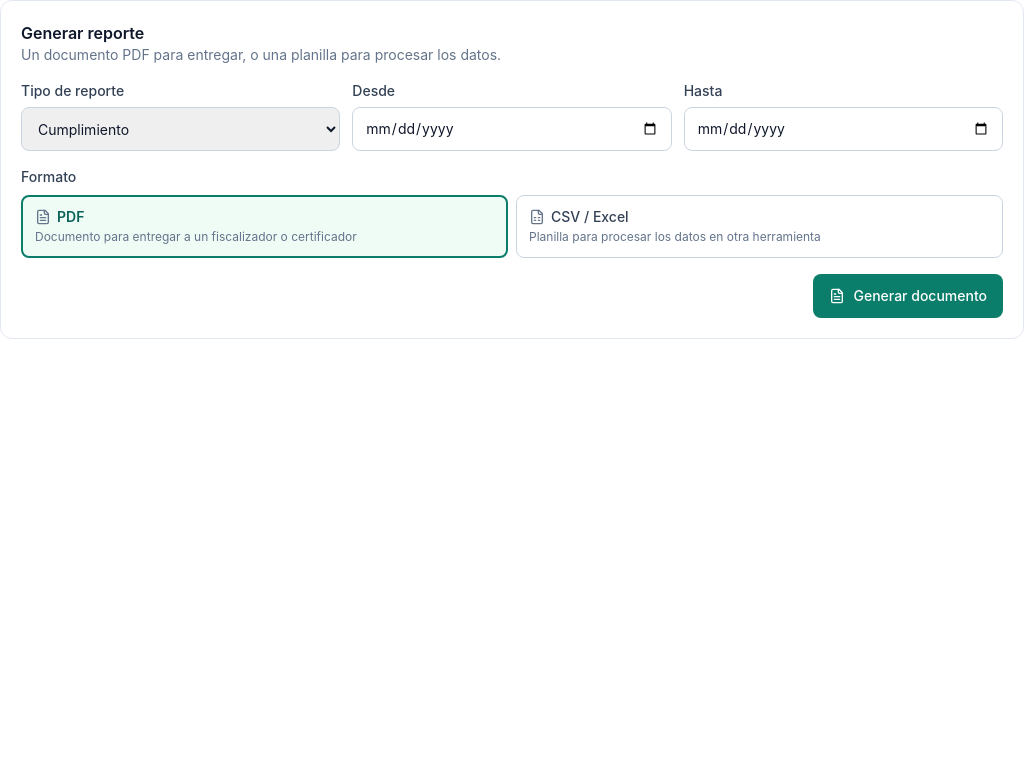
Scenario: el documento › se muestra antes de imprimir, para poder revisarlo
Click the button "Generar documento" at (908, 296), box [813,274,1003,318]
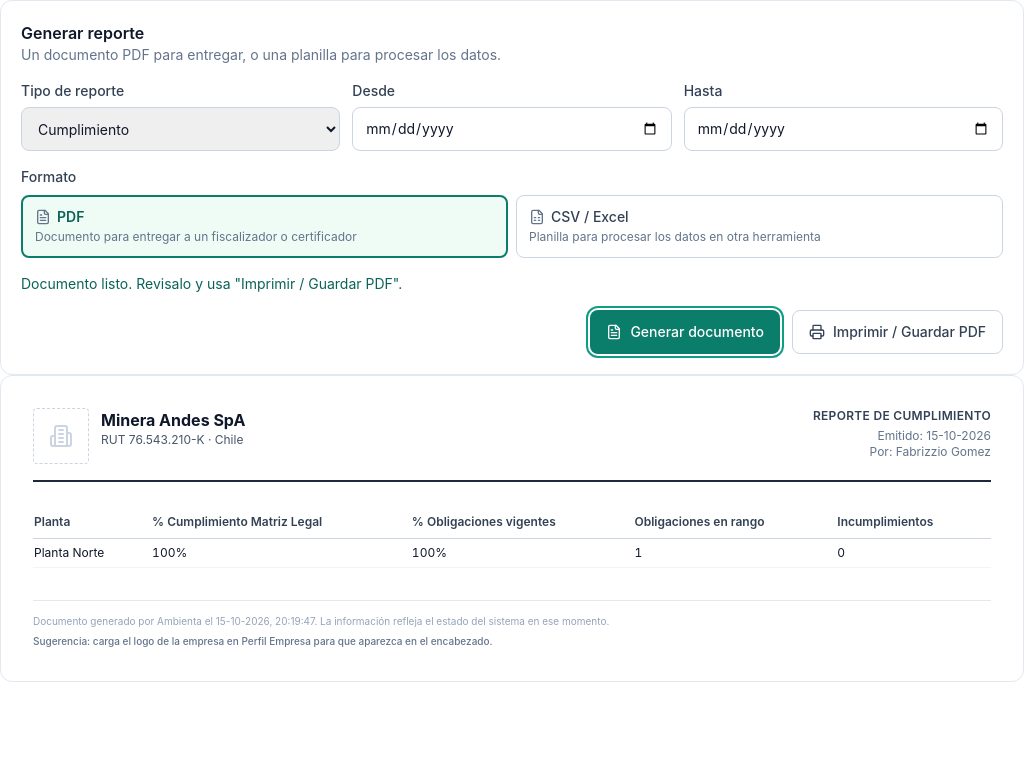
Check: the button "Imprimir / Guardar PDF" is shown, box [792,310,1003,354]
